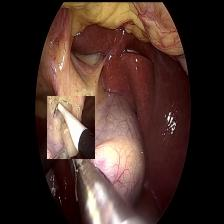Grasper: (59, 139, 114, 221)
Hook: (46, 95, 94, 158)
